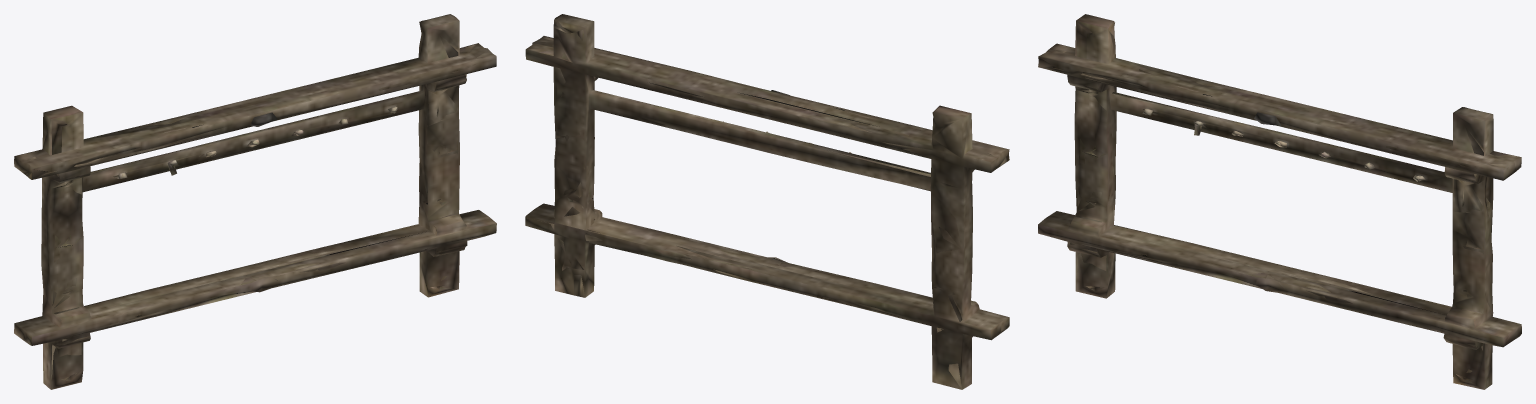
The model's file is rack.glb.
3 views of the same model, side by side, from view 1: azimuth 30°, elevation 25°; view 2: azimuth 150°, elevation 25°; view 3: azimuth 330°, elevation 25° (orthographic).
Visible parts, largest first — view 1: weapon-rack; view 2: weapon-rack; view 3: weapon-rack.
Part boxes in pixels (x1,y1,x2,y2): weapon-rack: (14, 14, 496, 389); weapon-rack: (525, 14, 1009, 389); weapon-rack: (1038, 14, 1521, 389).
Bounding box in the file's own units: 4.5 × 2.5 × 0.3377.
1 material, 1 textured.
